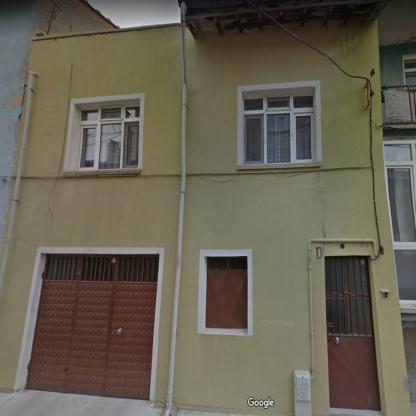door: (27, 281, 154, 397), (326, 256, 379, 408)
window: (383, 140, 415, 307), (242, 93, 315, 163), (72, 104, 140, 170), (204, 257, 248, 332), (45, 256, 158, 281), (403, 56, 415, 84)
